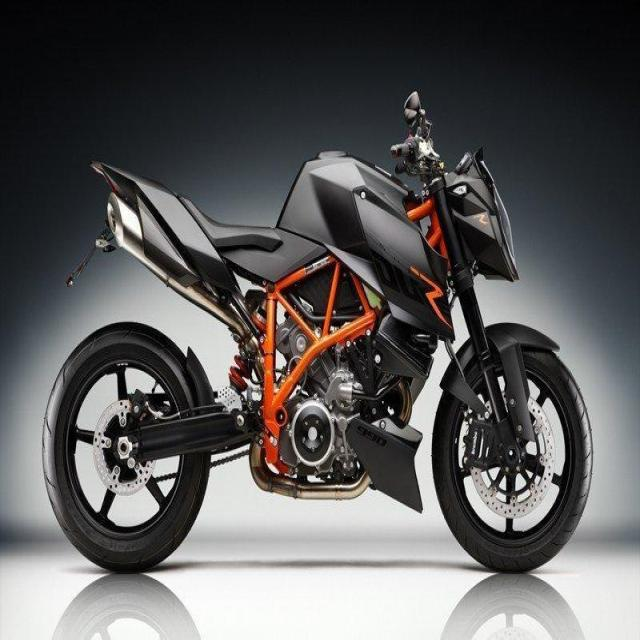motorcycle: (44, 86, 593, 578)
